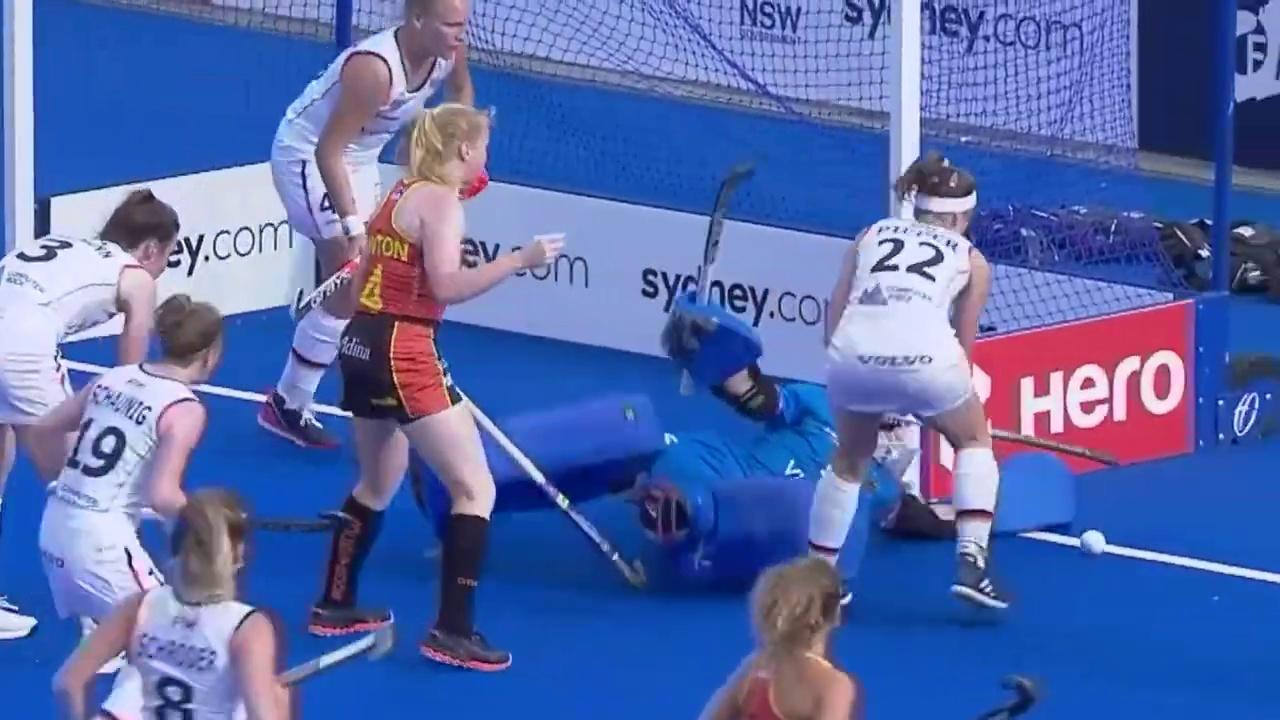ball: (1065, 522, 1119, 562)
